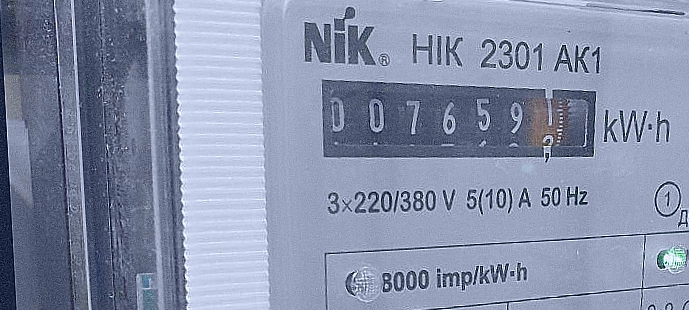0: (362, 93, 389, 135), (323, 92, 349, 135)
1: (540, 96, 559, 130)
5: (472, 94, 494, 133)
6: (437, 97, 460, 137)
7: (402, 96, 423, 137)
9: (506, 99, 525, 137)
screen: (309, 55, 608, 190)
